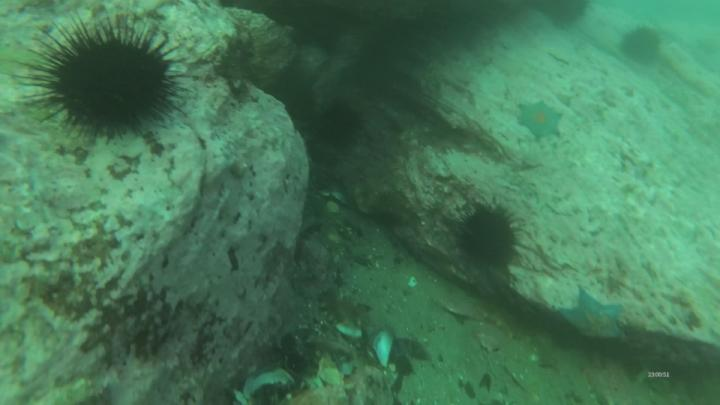echinus: (53, 39, 170, 133), (457, 209, 517, 270), (324, 104, 361, 148), (623, 29, 660, 65)
starfish: (559, 287, 624, 347), (516, 102, 563, 141)
